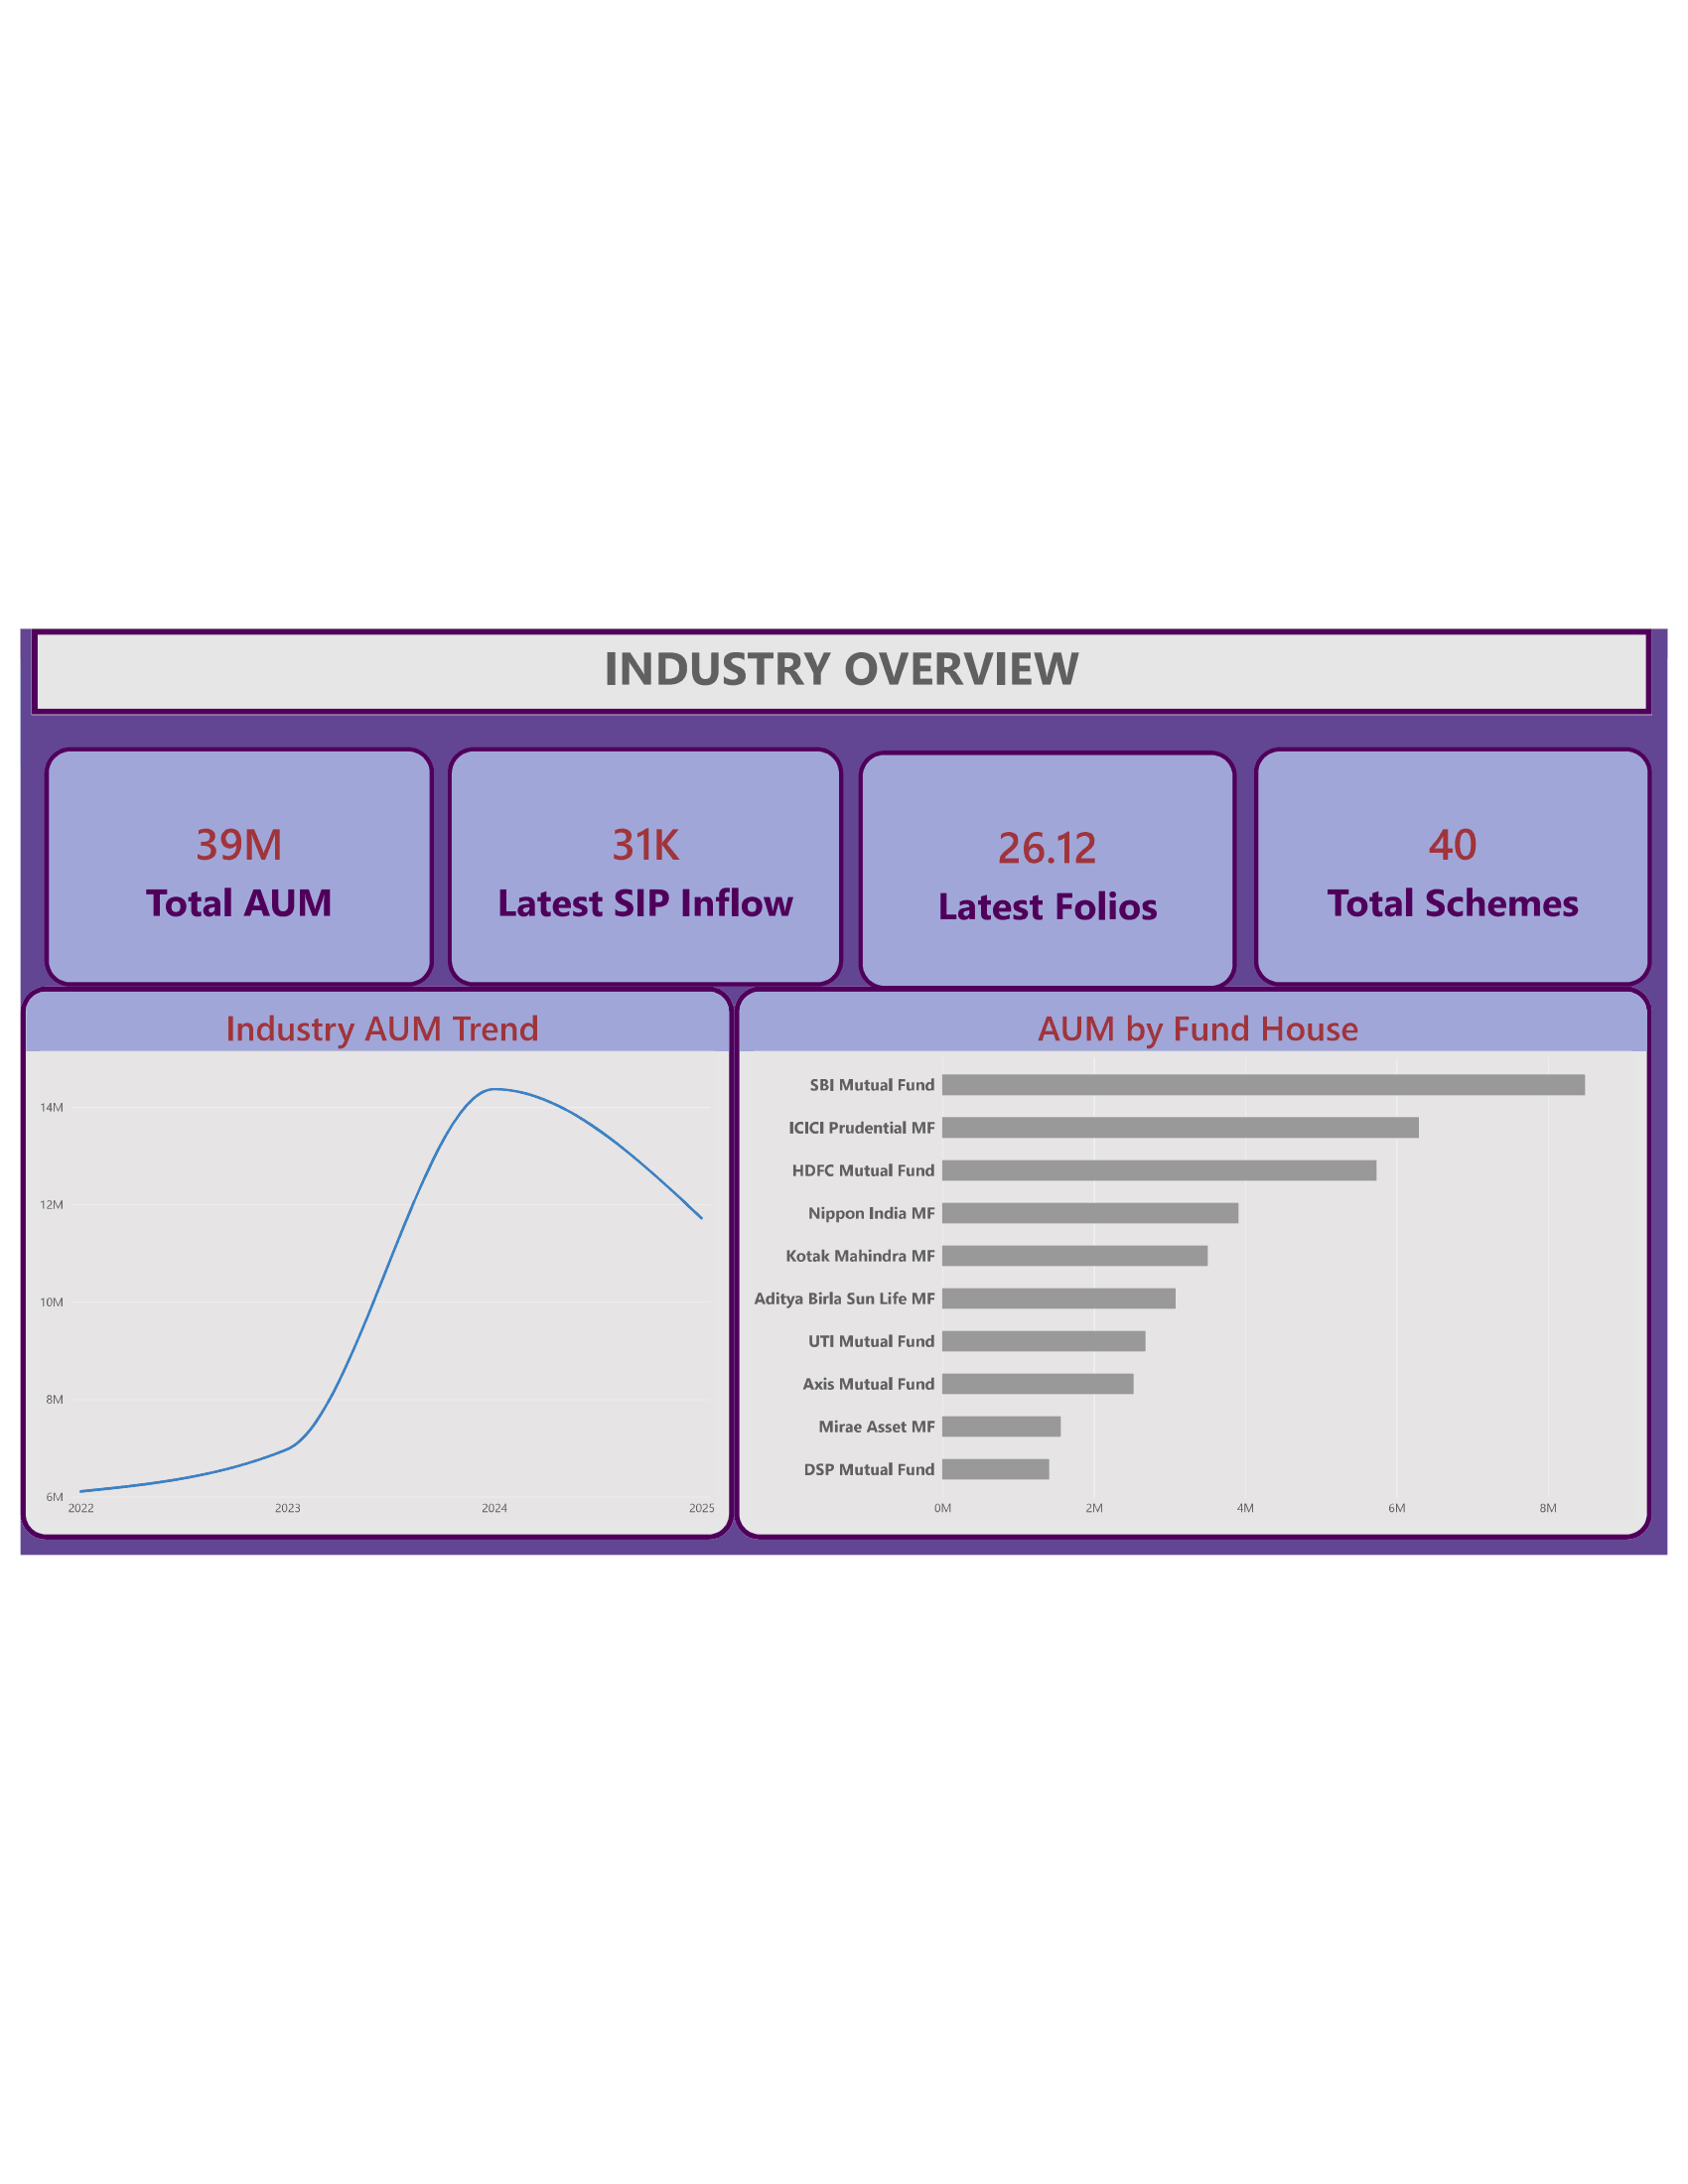

Layout of this report page (visuals, bound fields, positions):
{"tool":"powerbi","page":{"name":"Industry_Overview","canvas":[1920,1080],"ordinal":0},"visuals":[{"type":"card","title":"Total AUM","fields":{"Values":["01_fund_master.Total AUM"]},"box":[27.7,138.4,454.8,278.8],"z":0},{"type":"card","title":"y","fields":{"Values":["01_fund_master.Latest SIP"]},"box":[498.3,138.4,460.7,278.8],"z":1000},{"type":"card","title":"h","fields":{"Values":["01_fund_master.Latest Folios"]},"box":[976.8,142.4,440.9,278.8],"z":2000},{"type":"card","title":"h","fields":{"Values":["01_fund_master.Total Schemes"]},"box":[1437.5,138.4,464.7,278.8],"z":3000},{"type":"lineChart","title":"Industry AUM Trend","fields":{"Category":["03_aum_by_fund_house.date.Variation.Date Hierarchy.Year","03_aum_by_fund_house.date.Variation.Date Hierarchy.Quarter","03_aum_by_fund_house.date.Variation.Date Hierarchy.Month","03_aum_by_fund_house.date.Variation.Date Hierarchy.Day"],"Y":["Sum(03_aum_by_fund_house.aum_crore)"]},"box":[0,417.2,832.5,644.6],"z":4000},{"type":"clusteredBarChart","title":"AUM by Fund House","fields":{"Category":["03_aum_by_fund_house.fund_house"],"Y":["Sum(03_aum_by_fund_house.aum_crore)"]},"box":[832.5,417.2,1069.7,644.6],"z":5000},{"type":"textbox","box":[13.3,0,1888.3,100],"z":6000}]}

Visuals, with their boxes in screenshot pixels (x1, y1, x2, y2):
"Total AUM" card: left=36, top=740, right=430, bottom=982
"y" card: left=444, top=740, right=844, bottom=982
"h" card: left=859, top=744, right=1242, bottom=986
"h" card: left=1259, top=740, right=1662, bottom=982
"Industry AUM Trend" lineChart: left=11, top=982, right=734, bottom=1541
"AUM by Fund House" clusteredBarChart: left=734, top=982, right=1662, bottom=1541
textbox: left=23, top=619, right=1661, bottom=707
